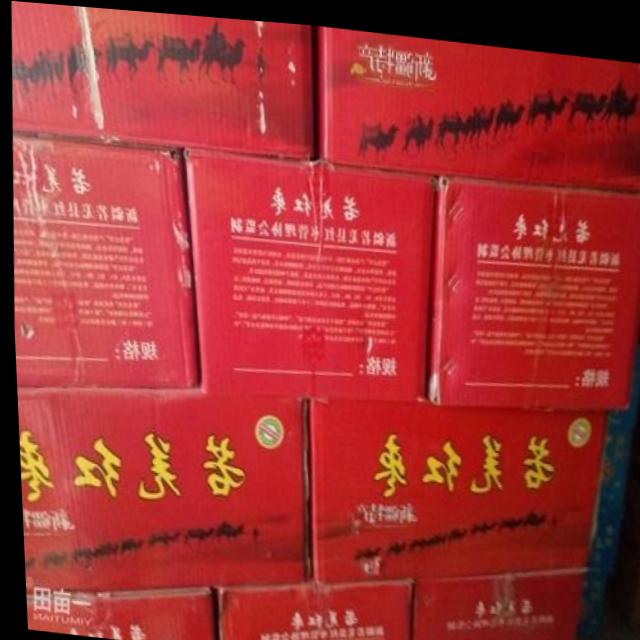box: (184, 145, 436, 394), (13, 382, 306, 592), (306, 390, 604, 578), (315, 20, 640, 182), (425, 166, 640, 400), (11, 1, 316, 155), (11, 133, 195, 388), (405, 559, 583, 640), (212, 570, 408, 640), (21, 585, 213, 640)
